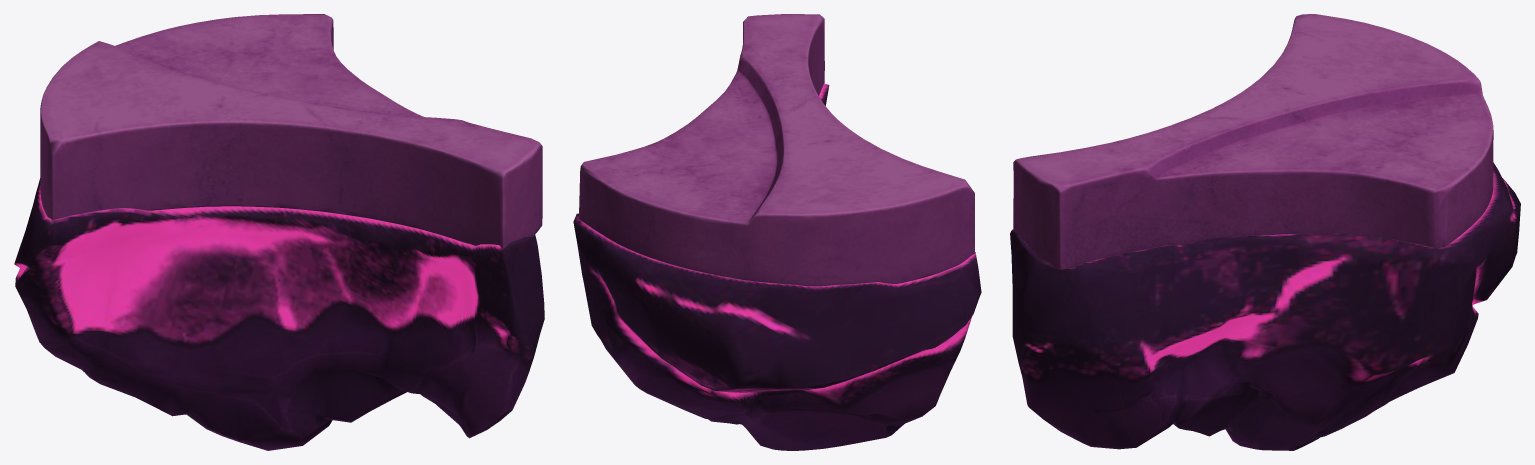
File: sky_rock_02a1_chaos.glb
The picture shows the model from 3 angles, left to right: view 1: azimuth 30°, elevation 25°; view 2: azimuth 150°, elevation 25°; view 3: azimuth 270°, elevation 25°; orthographic projection. The views are drawn at different scales.
Visible parts, largest first — view 1: rock_02a1; view 2: rock_02a1; view 3: rock_02a1.
Part boxes in pixels (<box>): rock_02a1: <box>14,14,544,450</box>; rock_02a1: <box>573,14,981,450</box>; rock_02a1: <box>1010,14,1520,450</box>.
Bounding box in the file's own units: 37.61 × 32.04 × 44.02.
1 material, 1 textured.
